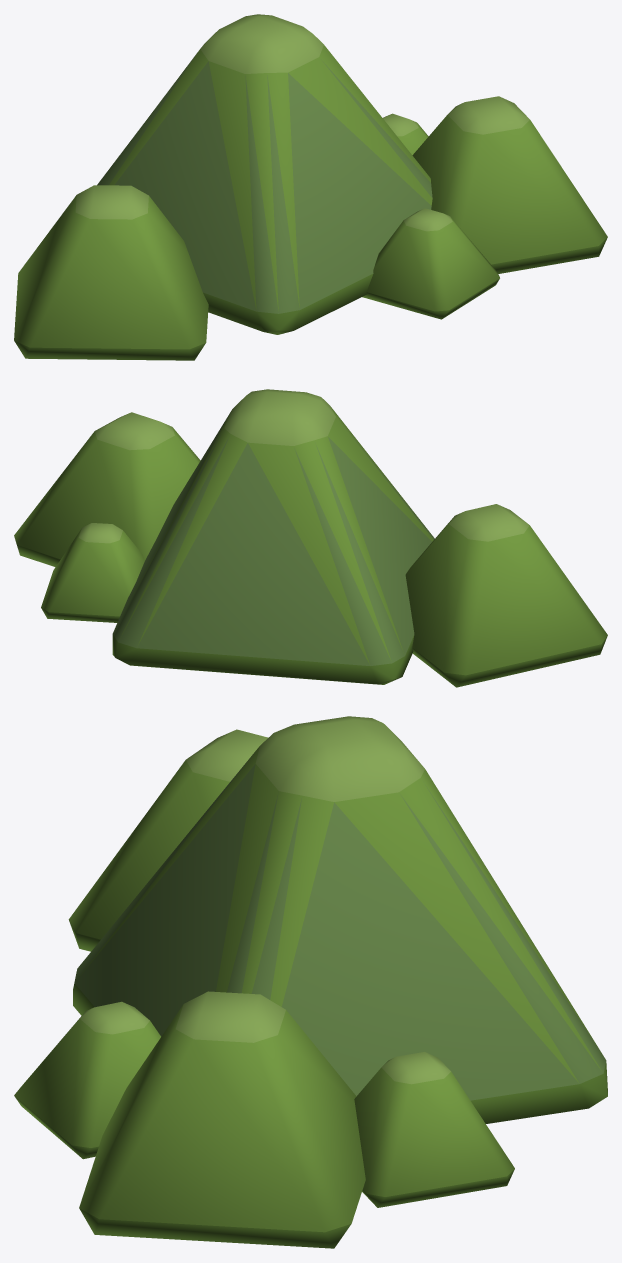
File: itch_kaykit_forest_bush_4_f_color1.glb
The picture shows the model from 3 angles, top to bottom: view 1: azimuth 30°, elevation 25°; view 2: azimuth 150°, elevation 25°; view 3: azimuth 270°, elevation 25°; orthographic projection. The views are drawn at different scales.
Parts seen in each view (by area): view 1: Bush_4_F_Color1; view 2: Bush_4_F_Color1; view 3: Bush_4_F_Color1.
Boxes of the visible parts, left/top/right/bottom form: Bush_4_F_Color1: left=14, top=14, right=607, bottom=360; Bush_4_F_Color1: left=14, top=389, right=607, bottom=687; Bush_4_F_Color1: left=14, top=716, right=607, bottom=1248.
Size of the model in its own units: 0.96 by 0.3684 by 0.6053.
